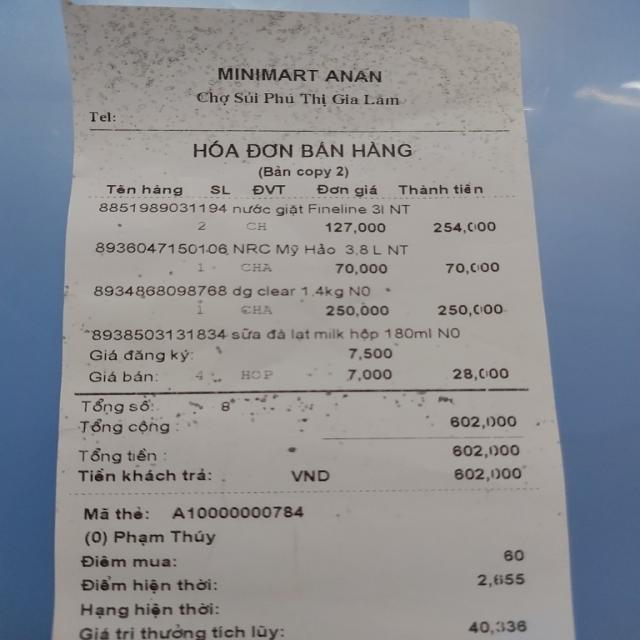Store_Name: (215, 63, 388, 86)
amount_number: (451, 414, 519, 429)
label_total: (82, 419, 175, 438)
